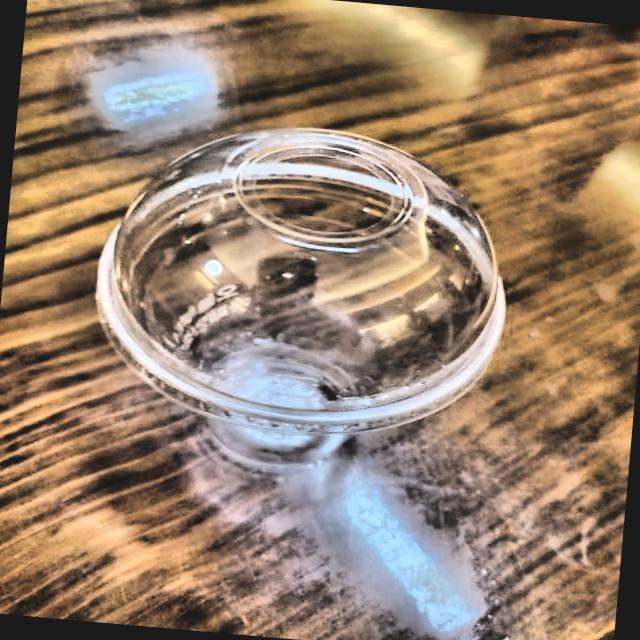plastic cup: (56, 98, 542, 565)
